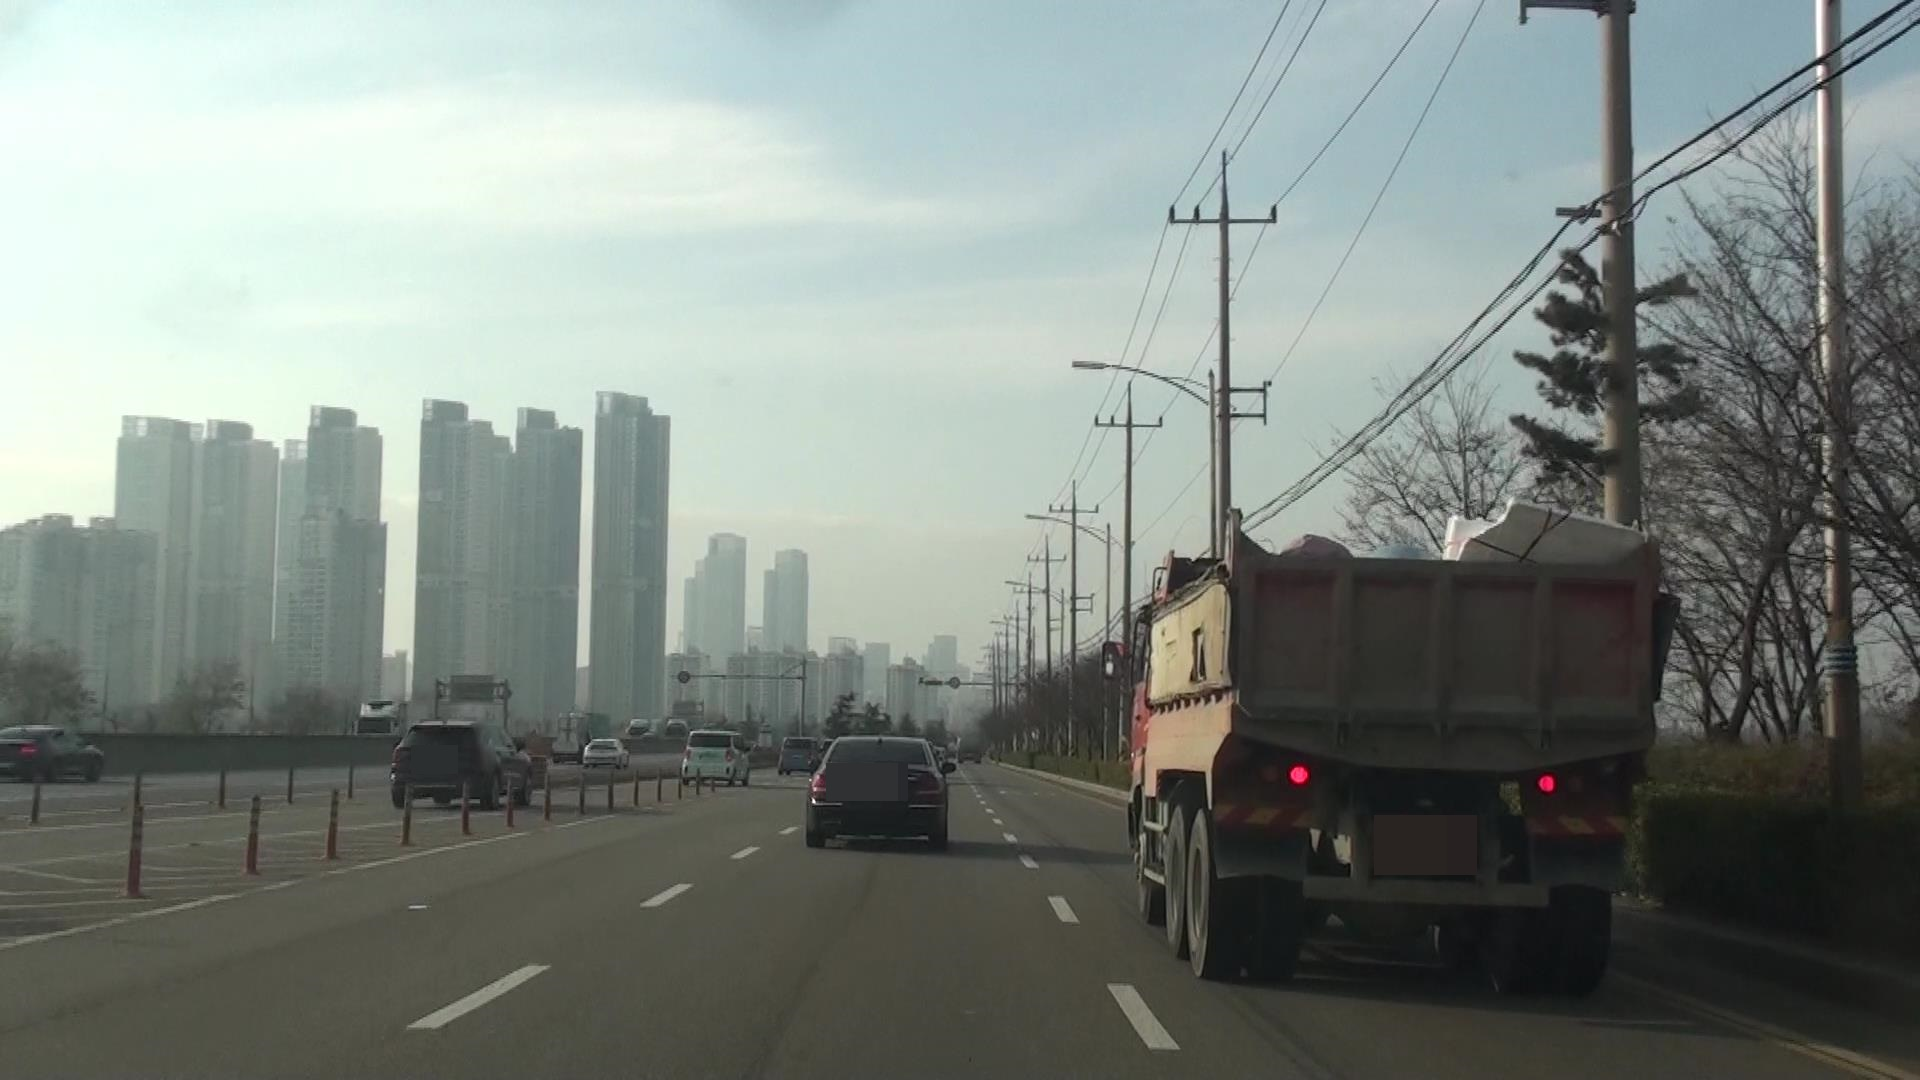불법차량: (1102, 496, 1683, 997)
